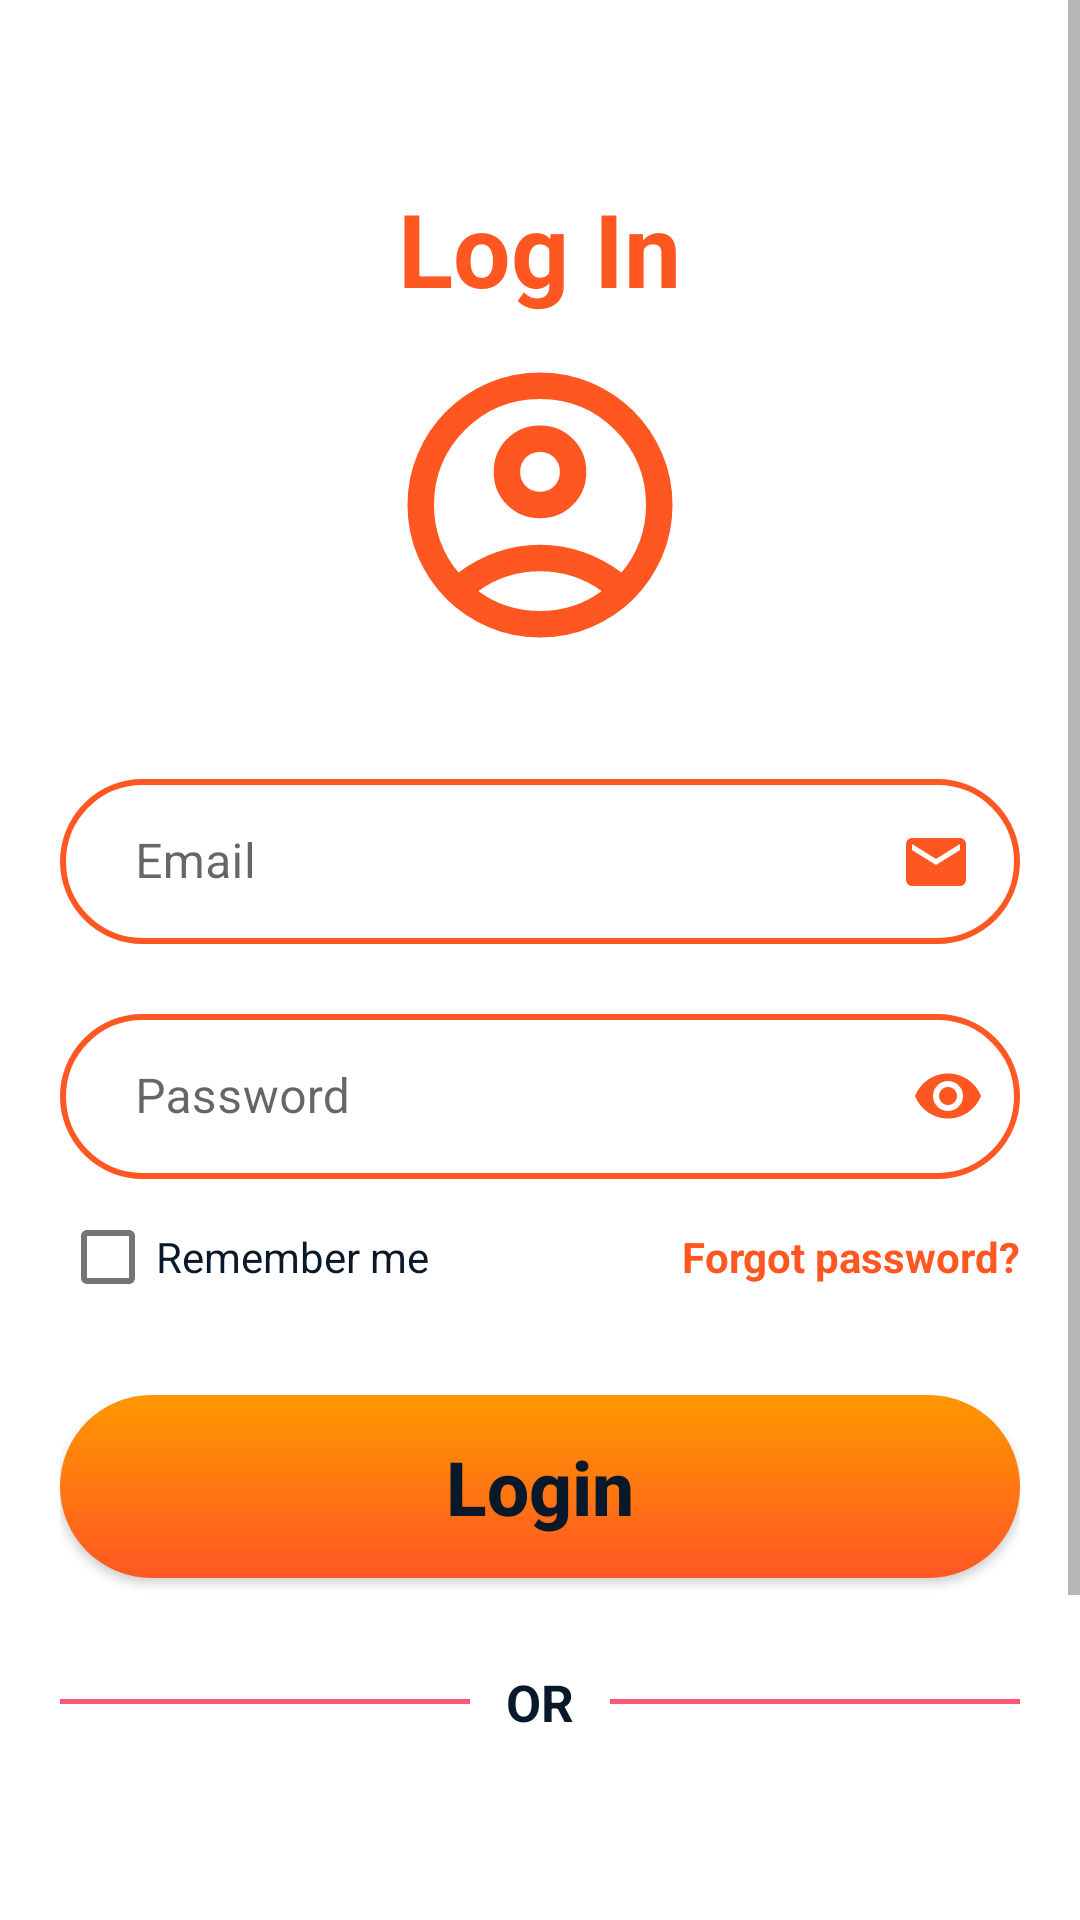

Icons on this 1080 x 1920 Android screen, each with its box as (x1, y1, x2, y2):
account circle: (407, 372, 673, 638)
